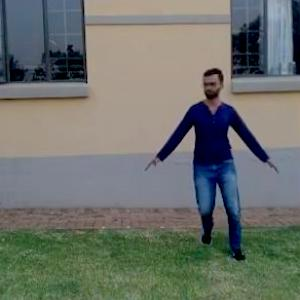land: (155, 69, 281, 234)
